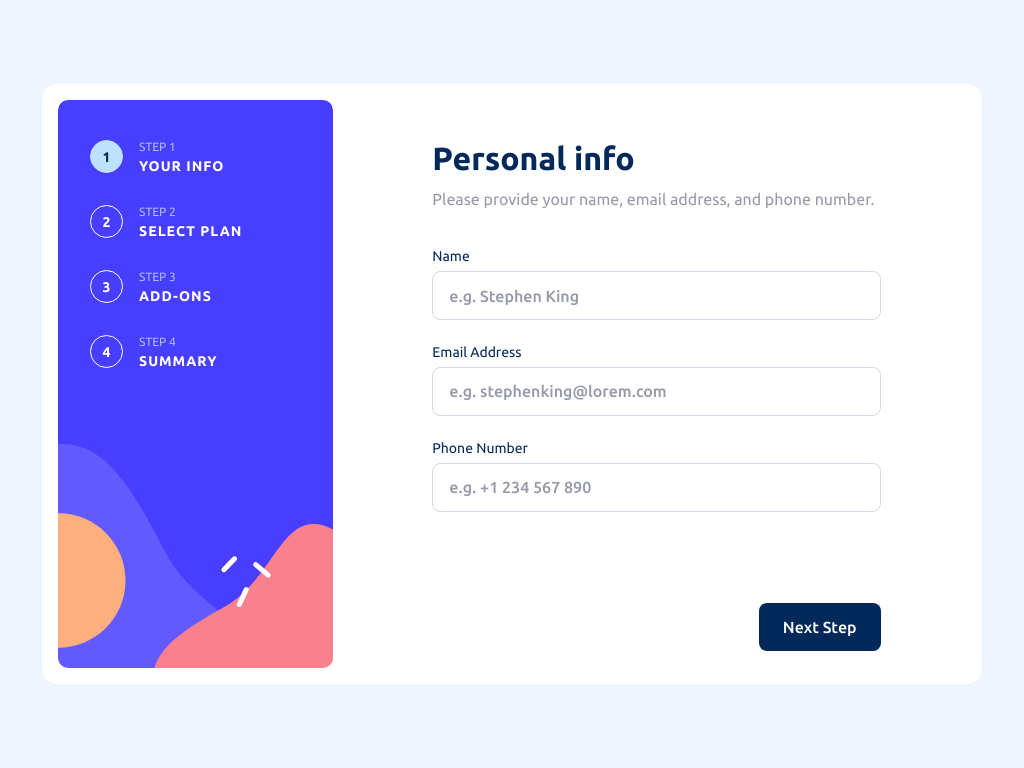
Scenario: Personal info form section › name input should be required
The width and height of the screenshot is (1024, 768).
Focus the field labelled "Name". click: (656, 296)
box: [432,271,880,320]
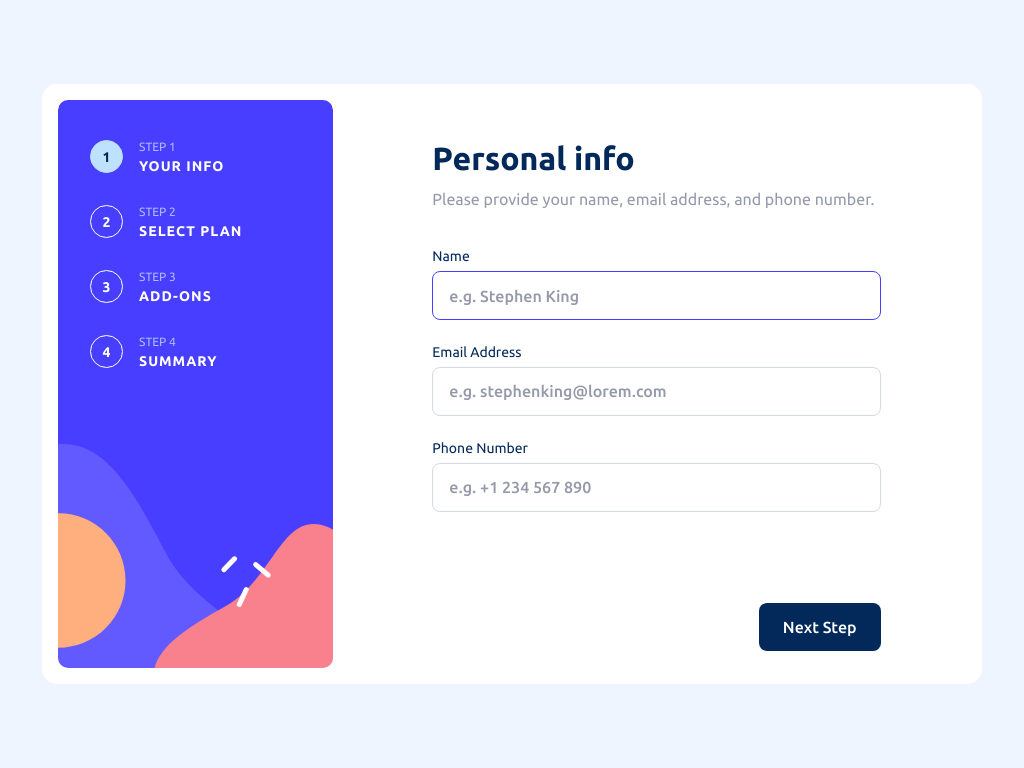
Focus the field labelled "Email address". click: (656, 392)
box: [432,367,880,416]
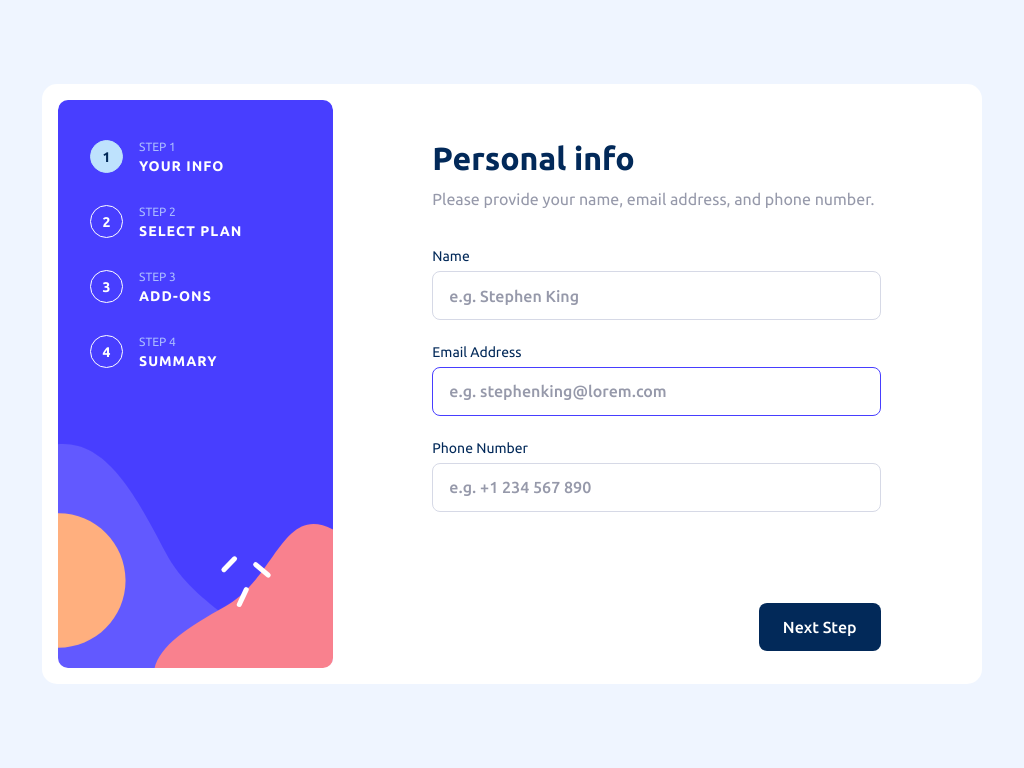
Click the button with test id "nextButton". click: (820, 627)
box: [759,603,881,651]
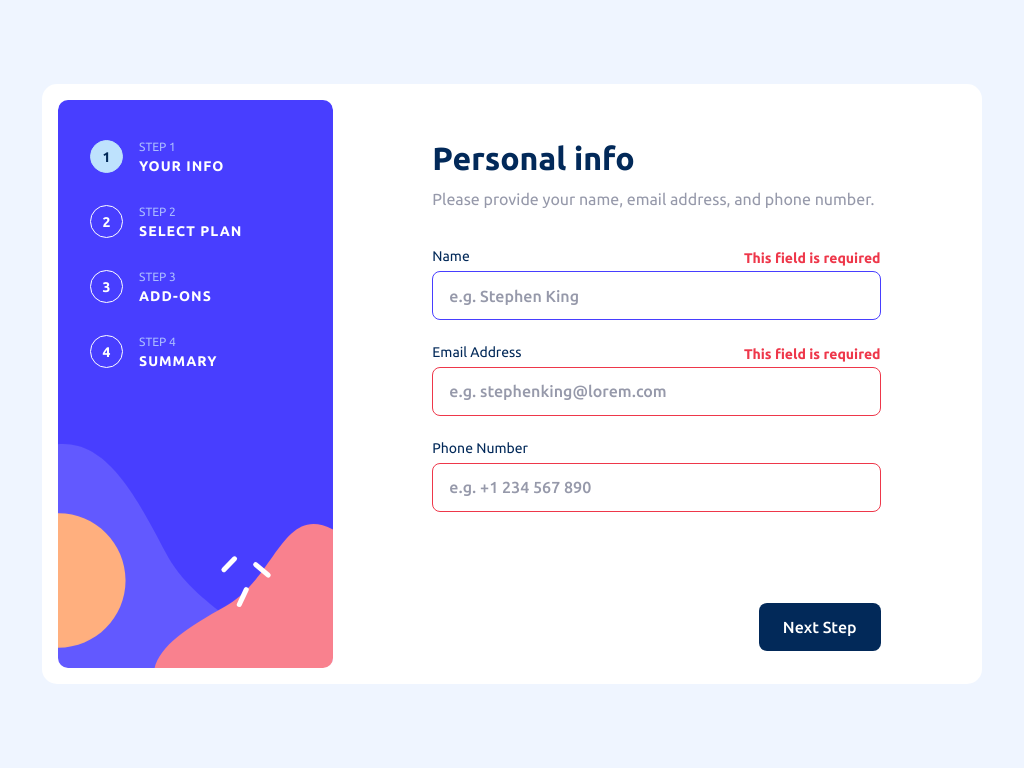
Check: the 1st text "This field is required" is shown, box [744,248,881,269]
